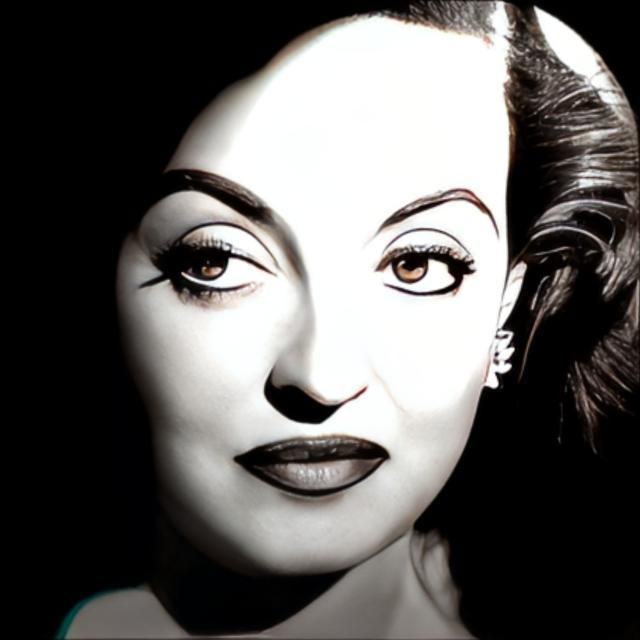content: (113, 9, 524, 576)
